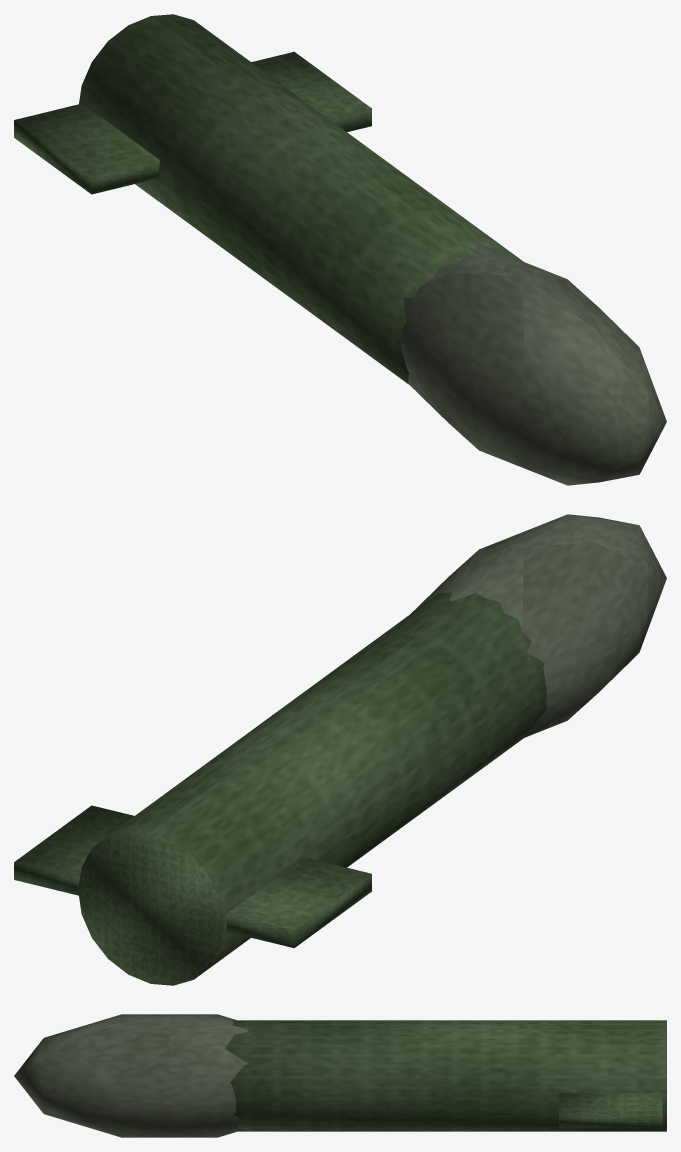
The model's file is projectile_rocket.glb.
The picture shows the model from 3 angles, top to bottom: view 1: azimuth 30°, elevation 25°; view 2: azimuth 150°, elevation 25°; view 3: azimuth 270°, elevation 25°; orthographic projection. The views are drawn at different scales.
Visible parts, largest first — view 1: Projectile shaft, Warhead, Stabilizer, Stabilizer.001; view 2: Projectile shaft, Warhead, Stabilizer, Stabilizer.001; view 3: Projectile shaft, Warhead, Stabilizer.001.
Part boxes in pixels (box(x1,y1,x2,y2)): Projectile shaft: box(79, 14, 523, 384); Warhead: box(401, 244, 666, 485); Stabilizer: box(14, 103, 160, 194); Stabilizer.001: box(251, 51, 371, 131); Projectile shaft: box(78, 592, 547, 985); Warhead: box(411, 514, 666, 737); Stabilizer: box(225, 857, 371, 948); Stabilizer.001: box(14, 805, 134, 895); Projectile shaft: box(225, 1020, 666, 1131); Warhead: box(14, 1014, 248, 1137); Stabilizer.001: box(559, 1093, 662, 1127).
Size of the model in its own units: 0.25 by 0.15 by 0.755.
2 materials, 2 textured.
